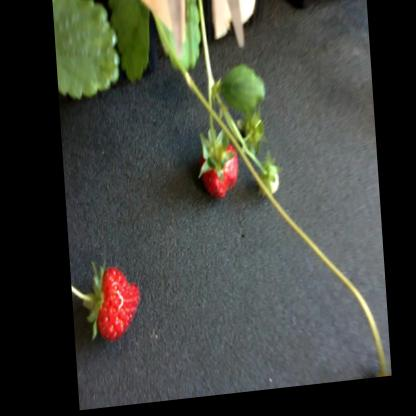ripe: (86, 267, 155, 351), (187, 138, 240, 210)
